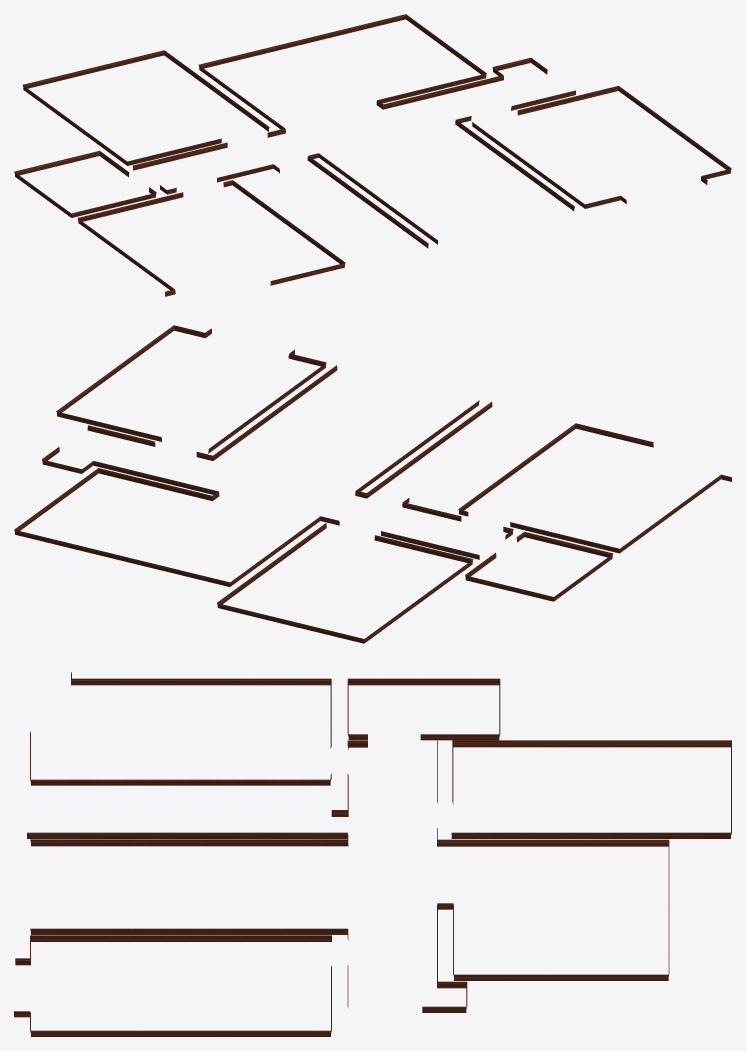
File: tijiaoxian.fbx
3 renders of one model, top to bottom at view 1: azimuth 30°, elevation 25°; view 2: azimuth 150°, elevation 25°; view 3: azimuth 270°, elevation 25°, orthographic. The views are drawn at different scales.
Visible parts, largest first — view 1: tijiaoxian; view 2: tijiaoxian; view 3: tijiaoxian.
Boxes of the visible parts, left/top/right/bottom form: tijiaoxian: left=14, top=14, right=731, bottom=296; tijiaoxian: left=14, top=325, right=731, bottom=643; tijiaoxian: left=14, top=672, right=731, bottom=1036.
Size of the model in its own units: 1624 by 13.71 by 1373.
Materials: 1 (1 with a texture image).
